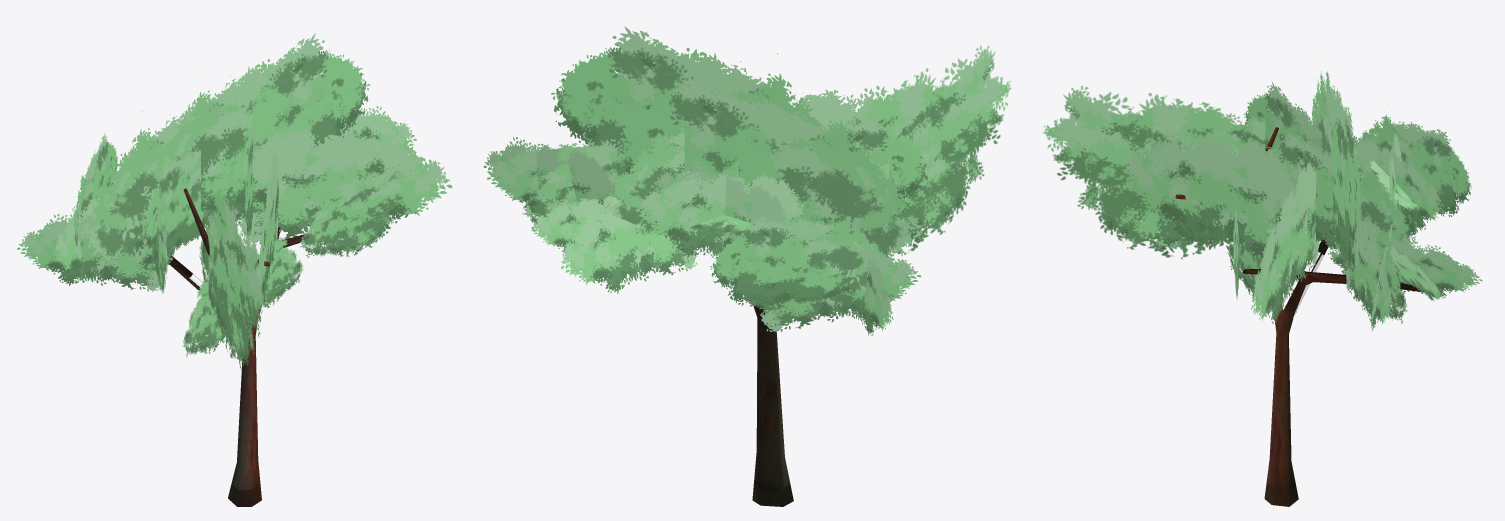
Rendered from tree_backgroundshader.glb.
The picture shows the model from 3 angles, left to right: view 1: azimuth 30°, elevation 25°; view 2: azimuth 150°, elevation 25°; view 3: azimuth 270°, elevation 25°; orthographic projection. The views are drawn at different scales.
Parts seen in each view (by area): view 1: tree_1.007; view 2: tree_1.007; view 3: tree_1.007.
Part boxes in pixels (box(x1,y1,x2,y2)): tree_1.007: box(17, 33, 452, 506); tree_1.007: box(483, 26, 1011, 506); tree_1.007: box(1042, 71, 1482, 506).
Bounding box in the file's own units: 6.17 × 6.45 × 6.02.
4 materials, 4 textured.
